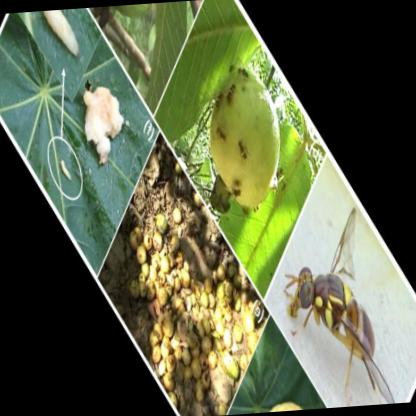fruit fly: (288, 205, 395, 403)
